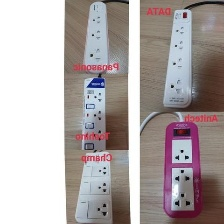three_eye_plug: (162, 119, 205, 220), (160, 5, 195, 110), (72, 149, 116, 224), (80, 1, 113, 76), (80, 74, 109, 151)
